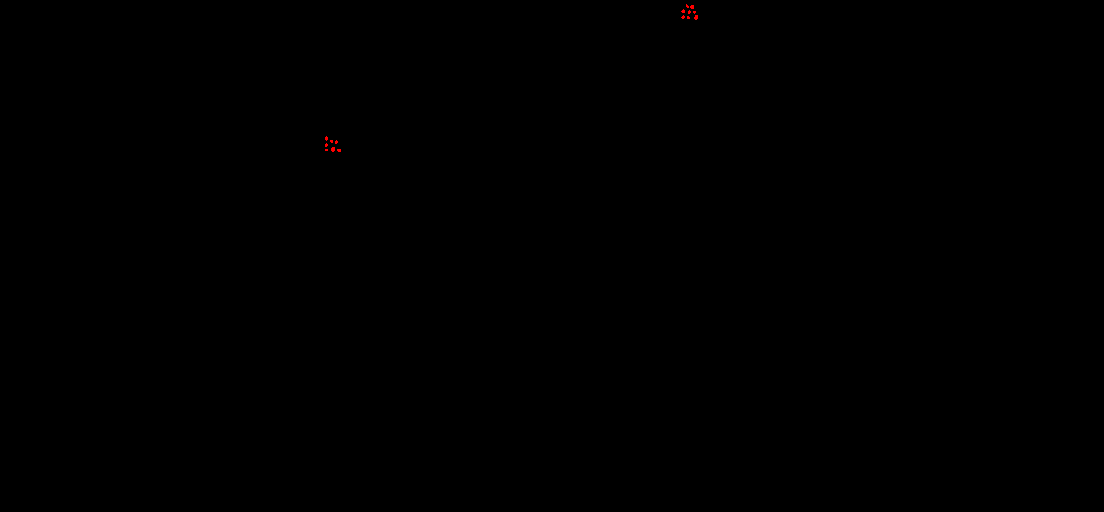Target: (694, 15, 698, 20), (331, 147, 335, 152), (690, 5, 694, 9), (681, 9, 685, 13), (681, 15, 685, 19), (325, 136, 328, 141), (686, 4, 689, 8), (688, 10, 691, 14), (335, 140, 338, 144), (325, 143, 328, 147), (337, 149, 341, 152), (693, 11, 696, 14), (687, 16, 690, 19), (330, 140, 333, 143), (325, 149, 328, 151)
